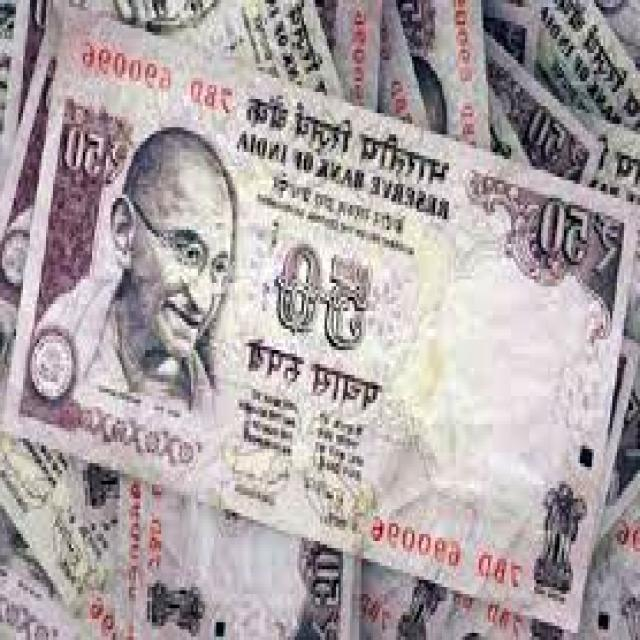50rs: (14, 203, 635, 541), (0, 131, 447, 527), (0, 509, 362, 640), (0, 0, 323, 109), (353, 498, 500, 640), (324, 0, 481, 123), (459, 65, 599, 195), (552, 470, 639, 640), (538, 0, 640, 126)
